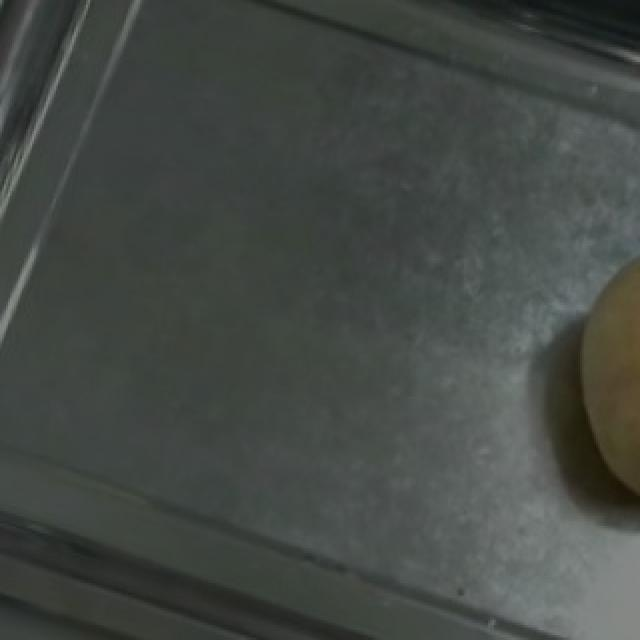Fruit: (540, 238, 640, 538)
